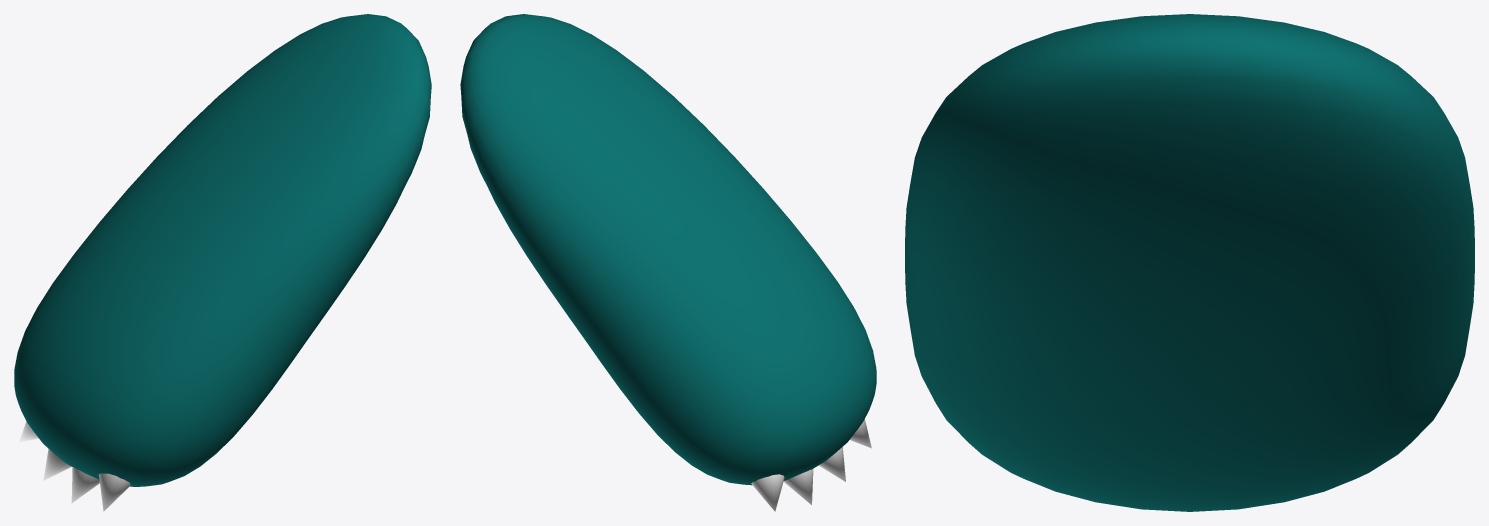
File: brazoderechosnorlax.fbx
The picture shows the model from 3 angles, left to right: view 1: azimuth 30°, elevation 25°; view 2: azimuth 150°, elevation 25°; view 3: azimuth 270°, elevation 25°; orthographic projection. The views are drawn at different scales.
Visible parts, largest first — view 1: brazo derecho; view 2: brazo derecho; view 3: brazo derecho.
Boxes of the visible parts, x1=… form: brazo derecho: x1=14, y1=14, x2=431, y2=511; brazo derecho: x1=460, y1=14, x2=876, y2=511; brazo derecho: x1=905, y1=14, x2=1474, y2=511.
Bounding box in the file's own units: 200 × 202 × 140.
